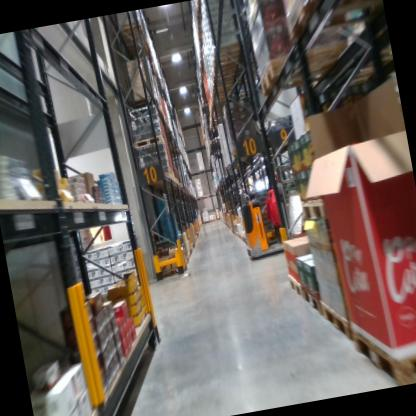pallet: (246, 35, 370, 104), (349, 312, 416, 389), (273, 0, 384, 43), (314, 287, 352, 347), (300, 280, 324, 325), (209, 40, 245, 67), (282, 260, 303, 302), (133, 133, 167, 155), (209, 51, 243, 73), (117, 15, 144, 38), (161, 258, 188, 276)
pallet_truck: (231, 168, 304, 265)
